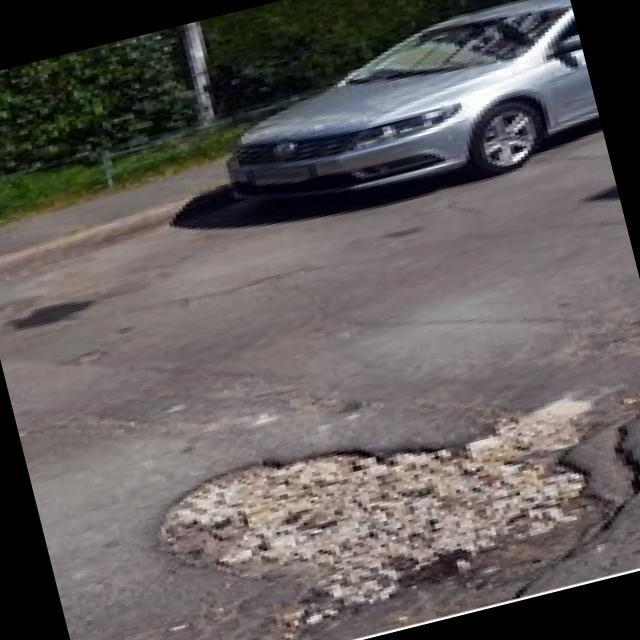Pothole: (146, 375, 640, 640)
